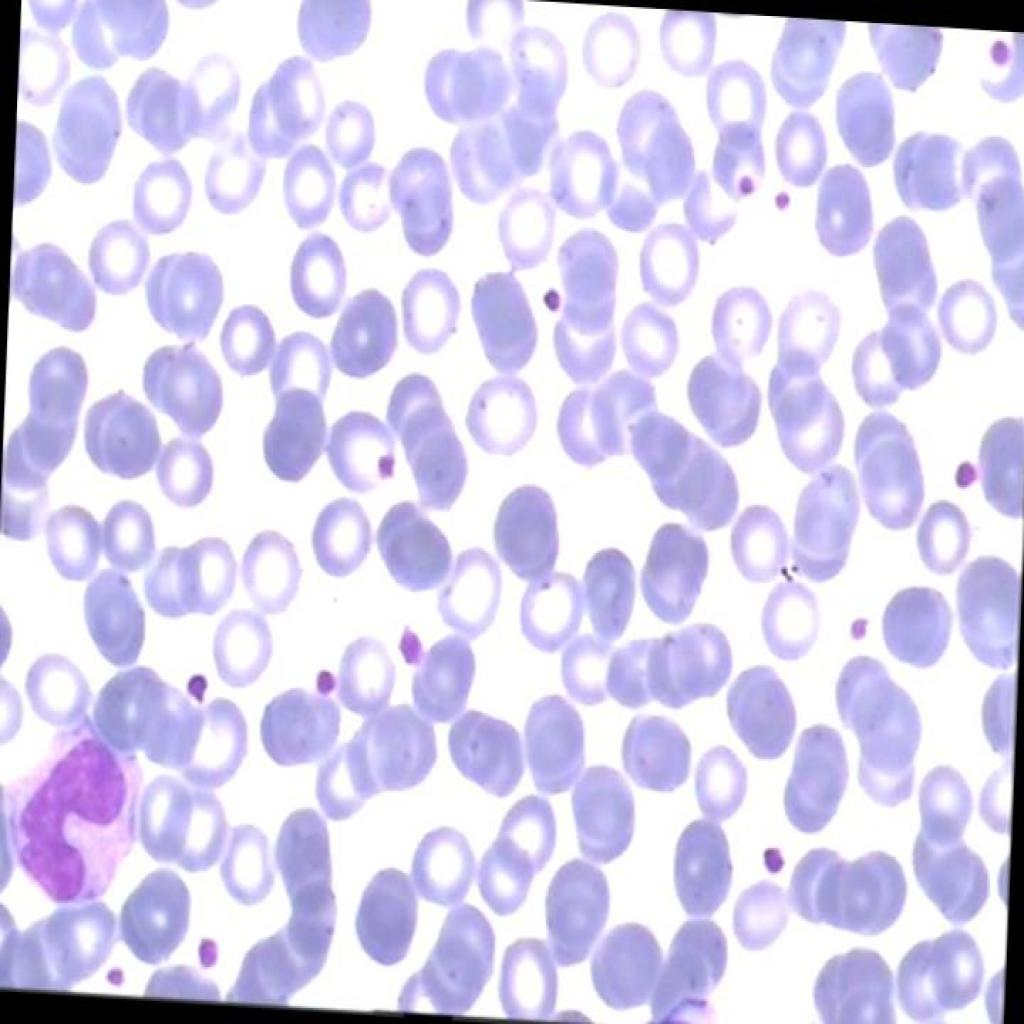Monosit: (0, 708, 154, 916)
Platelet: (934, 439, 990, 512), (181, 926, 226, 1004), (174, 642, 214, 714), (393, 622, 435, 672), (307, 658, 339, 716), (840, 603, 882, 645), (727, 162, 762, 210), (537, 268, 569, 320), (754, 838, 794, 878), (982, 30, 1018, 71), (365, 448, 397, 489), (764, 181, 794, 224), (102, 946, 126, 997), (790, 1008, 820, 1022)
